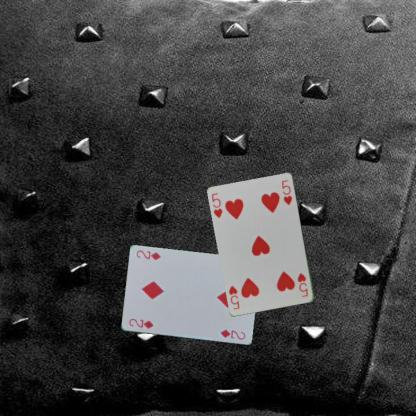2d: (126, 316, 155, 331)
5h: (209, 191, 224, 220), (295, 271, 309, 298)
